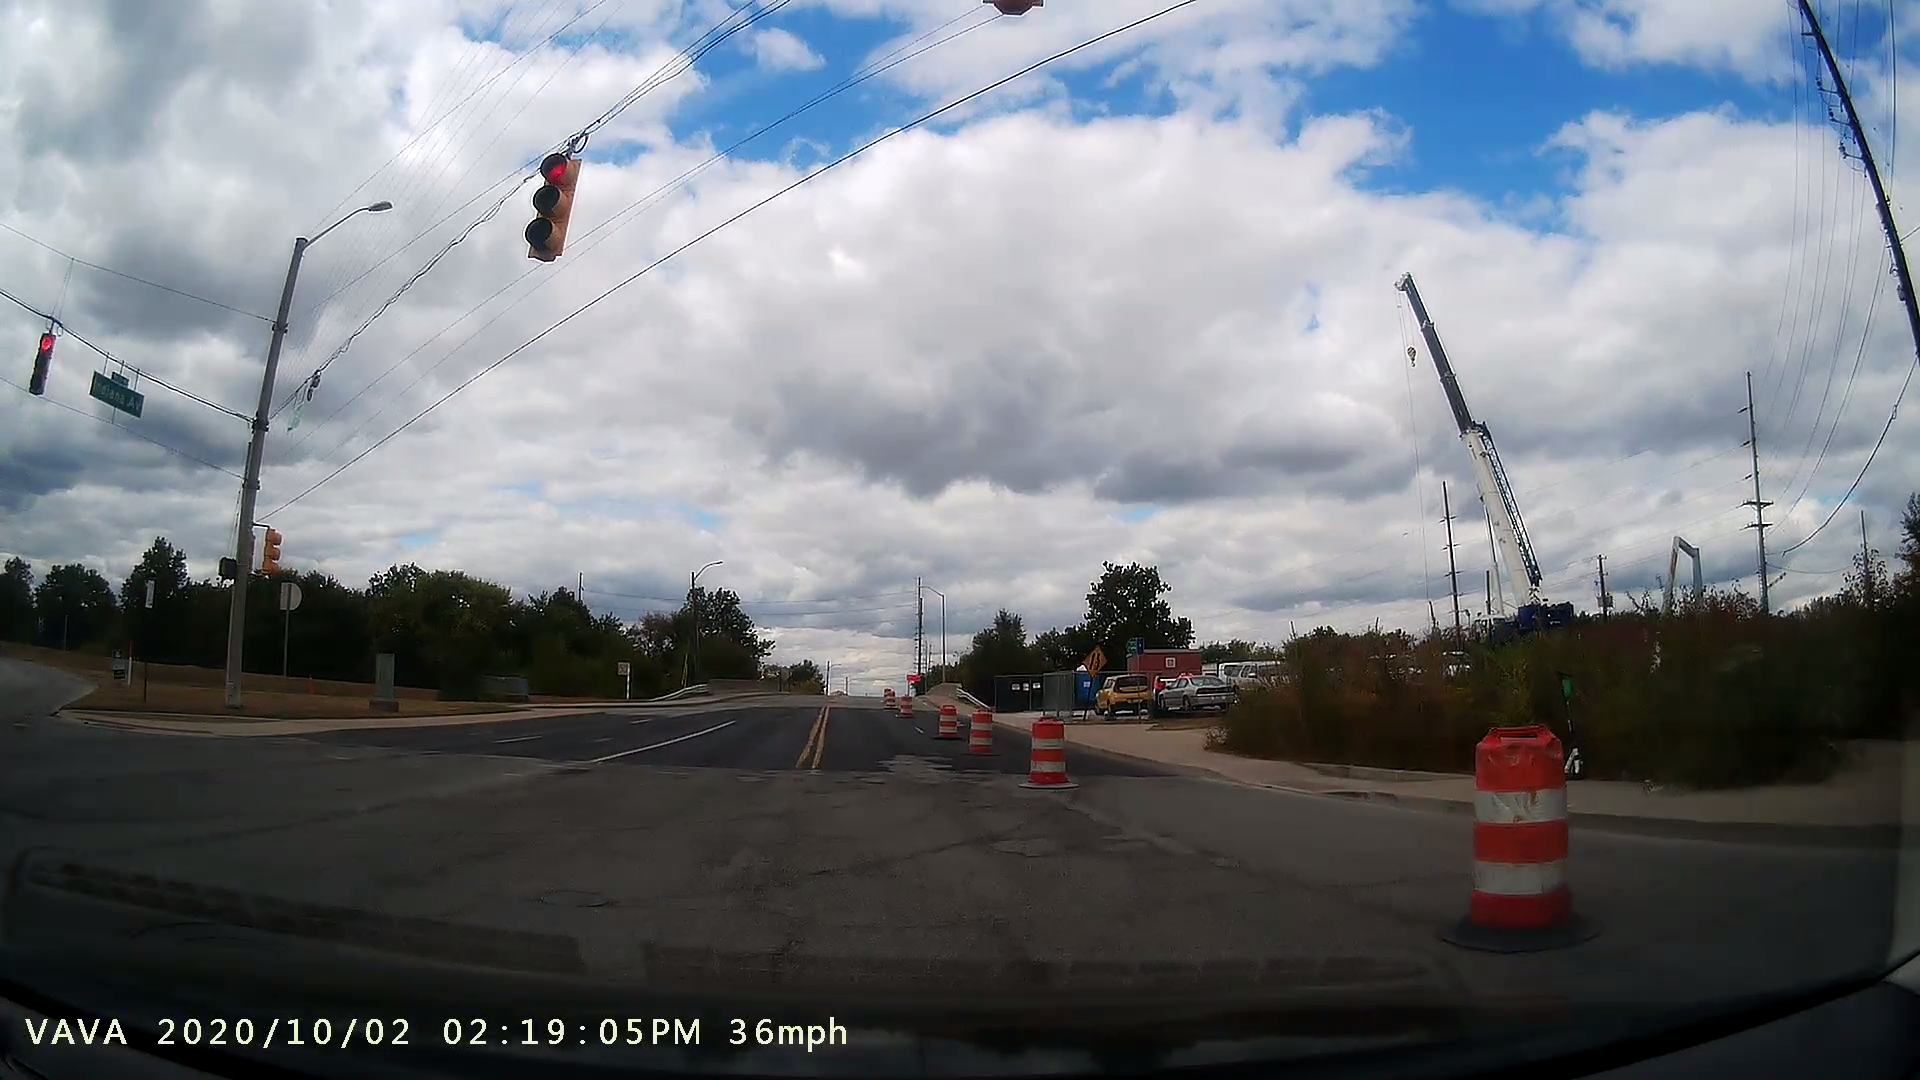const_barrel: (1428, 711, 1626, 978), (1019, 698, 1088, 798), (960, 698, 1000, 765)
